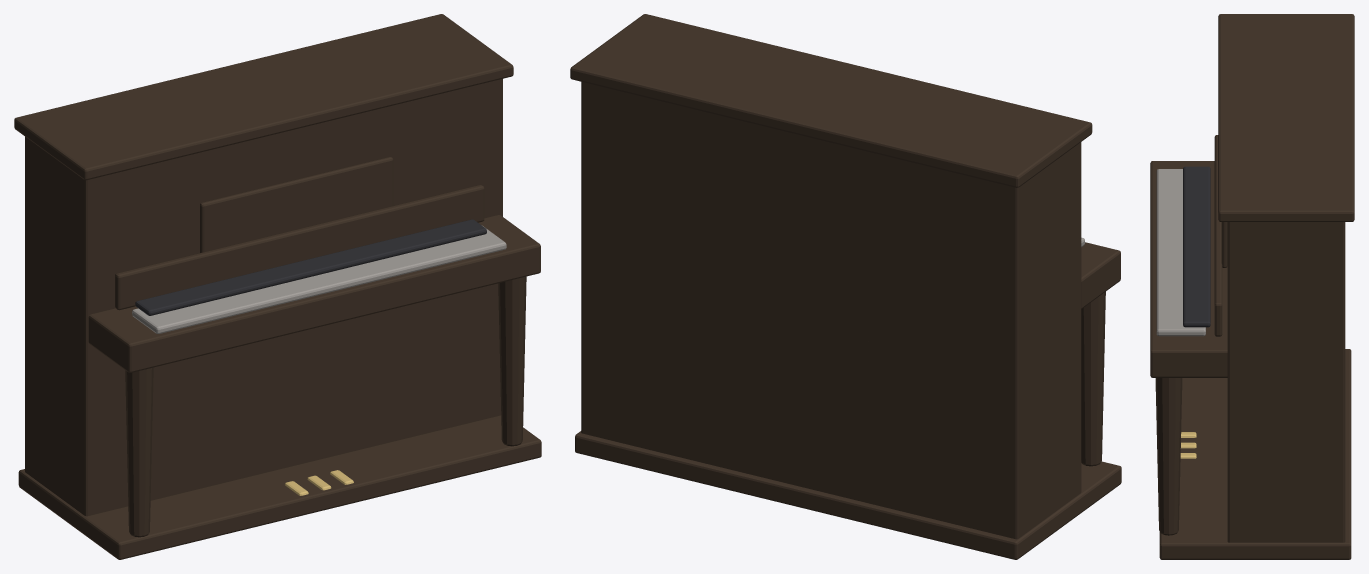
Rendered from SM_Furniture_Piano_01.glb.
3 views of the same model, side by side, from view 1: azimuth 30°, elevation 25°; view 2: azimuth 150°, elevation 25°; view 3: azimuth 270°, elevation 25° (orthographic). The views are drawn at different scales.
Visible parts, largest first — view 1: SM_Furniture_Piano_01; view 2: SM_Furniture_Piano_01; view 3: SM_Furniture_Piano_01.
Boxes of the visible parts, x1,y1,x2,y2 form: SM_Furniture_Piano_01: [14, 14, 541, 559]; SM_Furniture_Piano_01: [570, 14, 1121, 559]; SM_Furniture_Piano_01: [1150, 14, 1354, 559].
Bounding box in the file's own units: 1.52 × 1.25 × 0.66.
